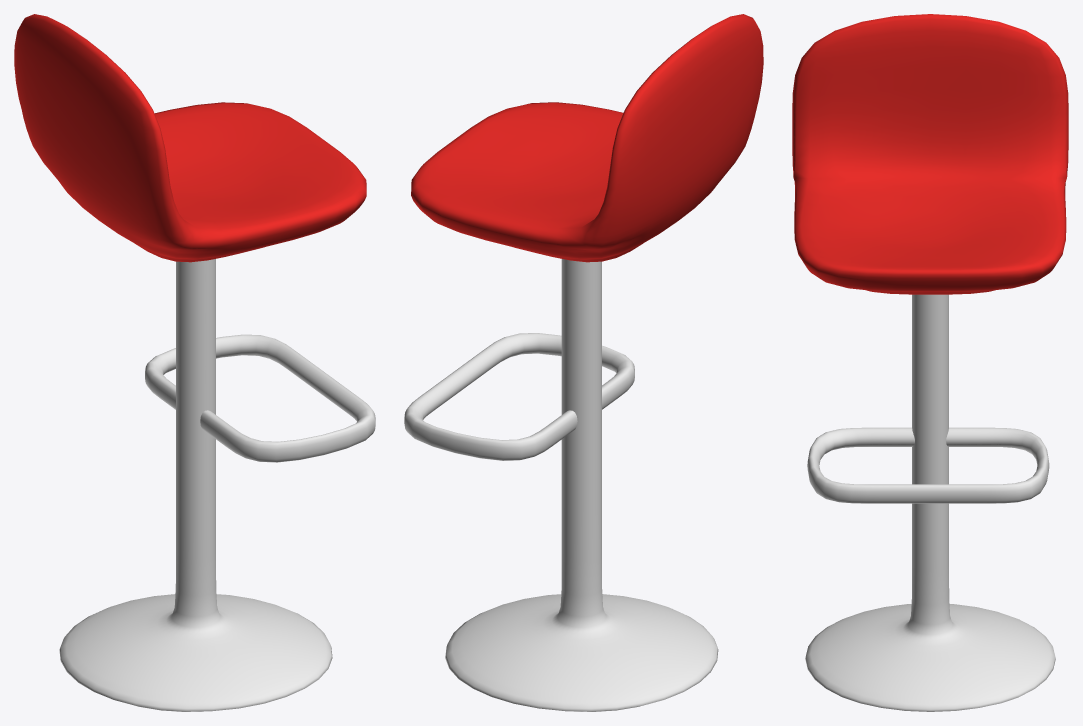
The model's file is SM_Chair_03.fbx.
3 views of the same model, side by side, from view 1: azimuth 30°, elevation 25°; view 2: azimuth 150°, elevation 25°; view 3: azimuth 270°, elevation 25° (orthographic). The views are drawn at different scales.
Parts seen in each view (by area): view 1: 立方体.085; view 2: 立方体.085; view 3: 立方体.085.
Part boxes in pixels (x1=…): 立方体.085: x1=14, y1=14, x2=375, y2=711; 立方体.085: x1=404, y1=14, x2=763, y2=711; 立方体.085: x1=792, y1=14, x2=1068, y2=711.
Bounding box in the file's own units: 43.23 × 105 × 44.08.
